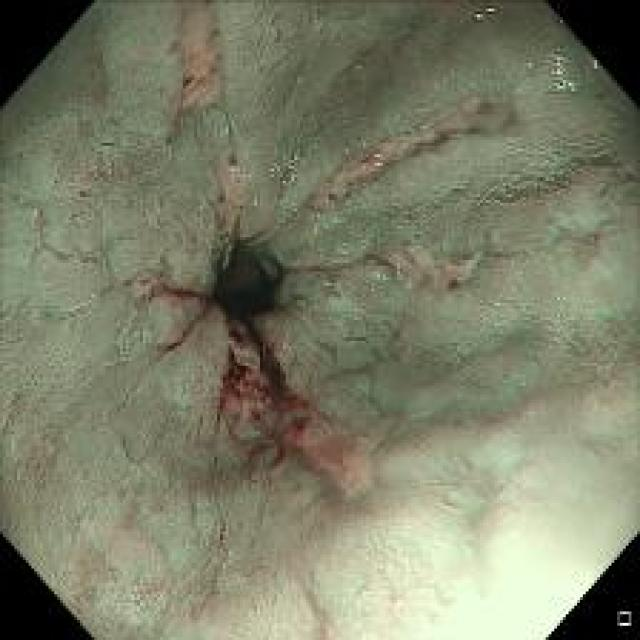blood: (215, 334, 330, 460)
blur: (332, 491, 611, 625)
color misalignment: (540, 42, 580, 104), (470, 2, 496, 25), (589, 55, 600, 74), (110, 319, 124, 332), (369, 269, 382, 280)
contrast: (208, 231, 285, 325)
specularity: (251, 138, 321, 212)
